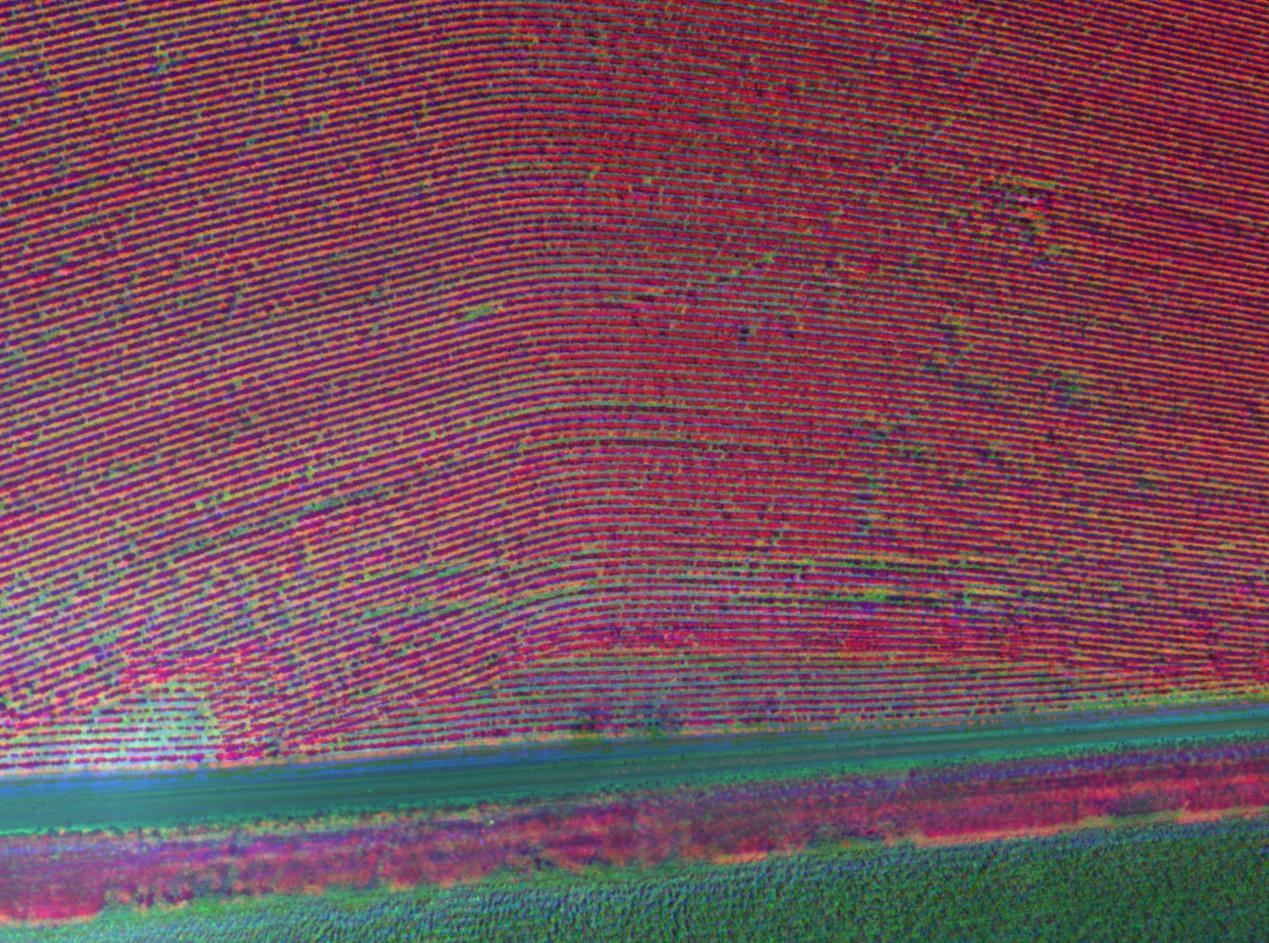dc: (866, 595, 872, 600), (471, 608, 476, 614), (105, 636, 110, 641), (475, 311, 479, 316), (225, 494, 230, 498), (412, 571, 416, 576), (765, 258, 768, 262)
